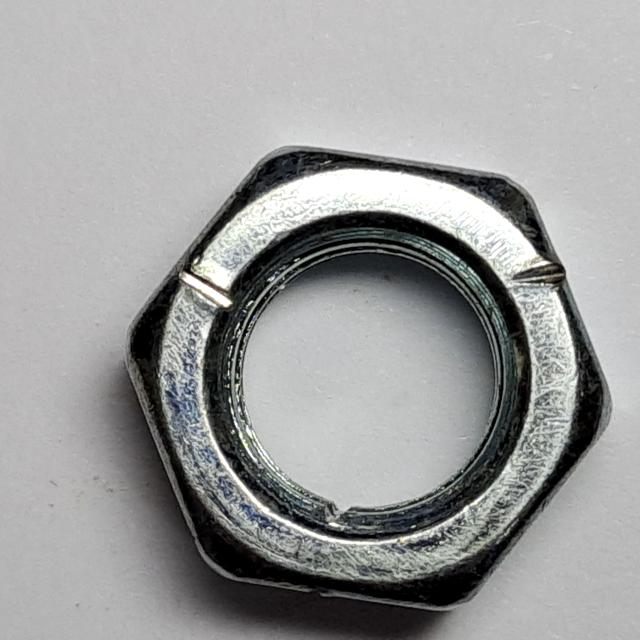Scratches: (113, 128, 622, 621)
